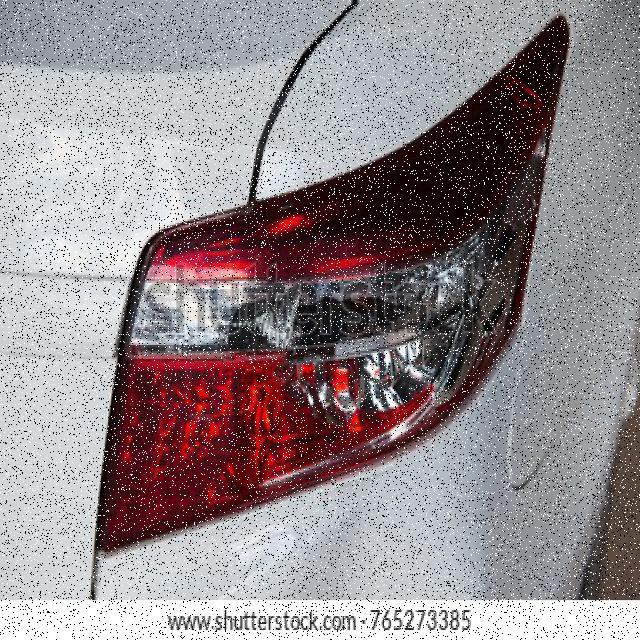Taillight-Damage: (63, 94, 586, 550)
